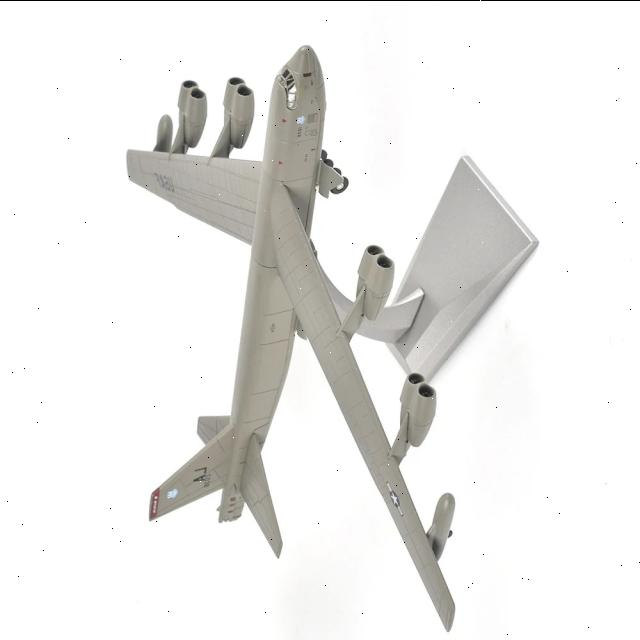B52: (99, 22, 587, 640)
